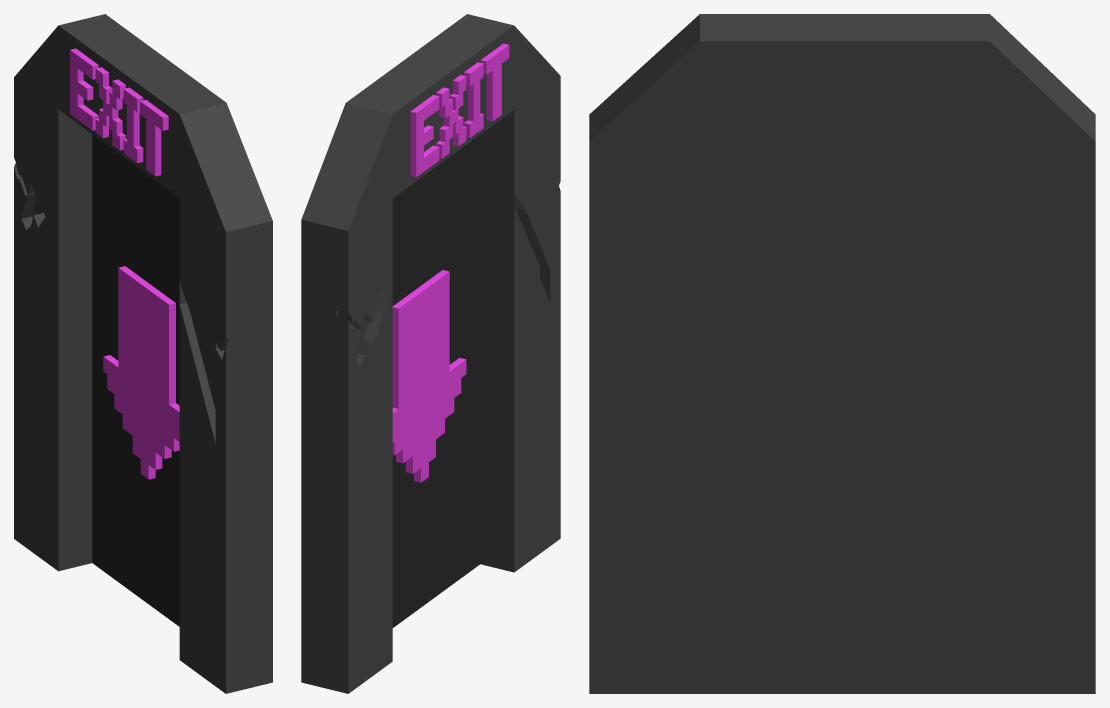
Rendered from fake_exit.glb.
3 renders of one model, left to right at view 1: azimuth 30°, elevation 25°; view 2: azimuth 150°, elevation 25°; view 3: azimuth 270°, elevation 25°, orthographic. The views are drawn at different scales.
Visible parts, largest first — view 1: Plane, Plane.003, Plane.002; view 2: Plane, Plane.003, Plane.002; view 3: Plane.
Part boxes in pixels (box(x1,y1,x2,y2)): Plane: box(14, 14, 272, 693); Plane.003: box(103, 266, 179, 479); Plane.002: box(70, 48, 168, 176); Plane: box(301, 14, 560, 693); Plane.003: box(392, 270, 466, 482); Plane.002: box(410, 43, 509, 177); Plane: box(589, 14, 1095, 693).
Size of the model in its own units: 0.2029 by 2 by 1.41.
